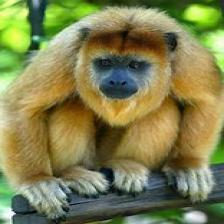monkey: (5, 3, 218, 212)
